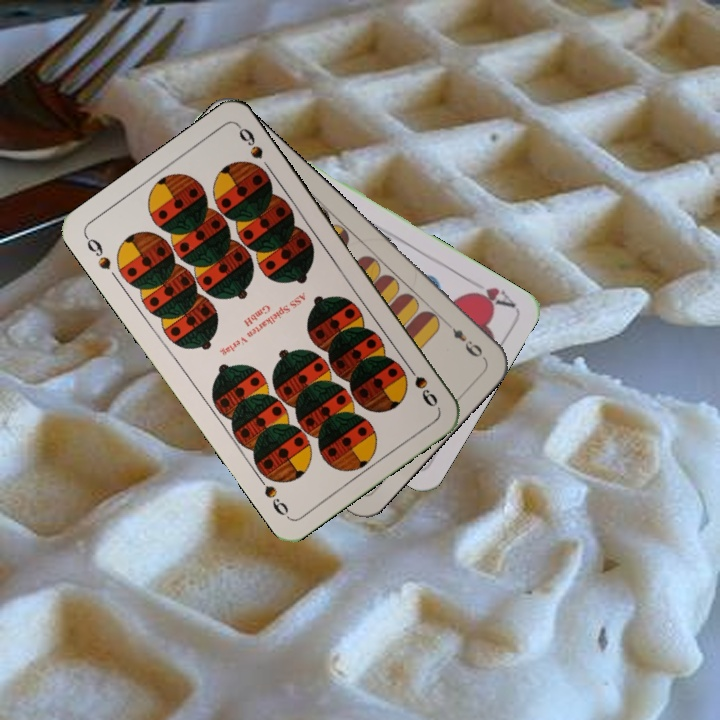E9: (441, 317, 487, 362)
HA: (463, 274, 517, 311)
S9: (401, 358, 441, 410), (81, 231, 114, 273)
